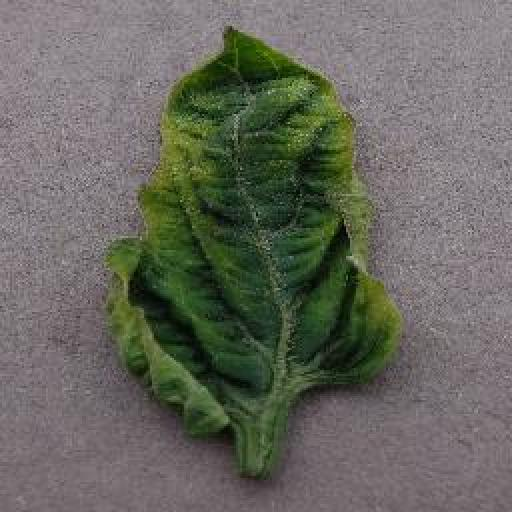disease_tomato: (104, 23, 402, 445)
